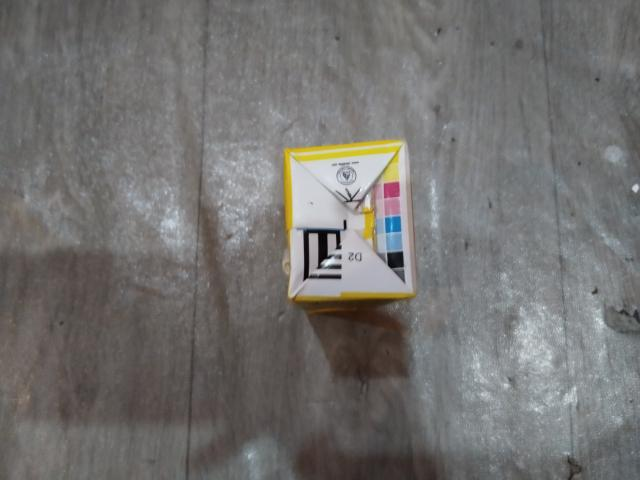drink_box: (279, 138, 424, 309)
